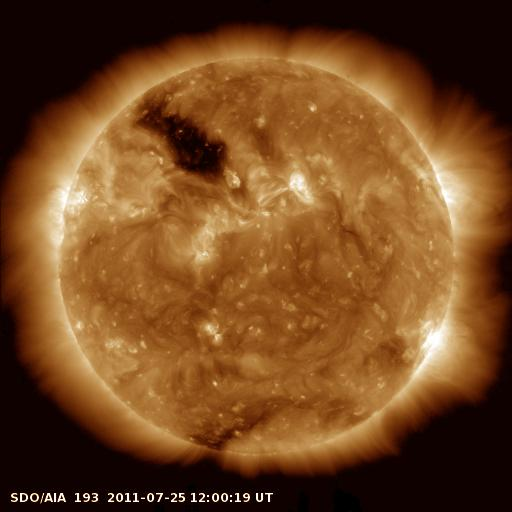coronal_hole: (134, 92, 231, 182)
